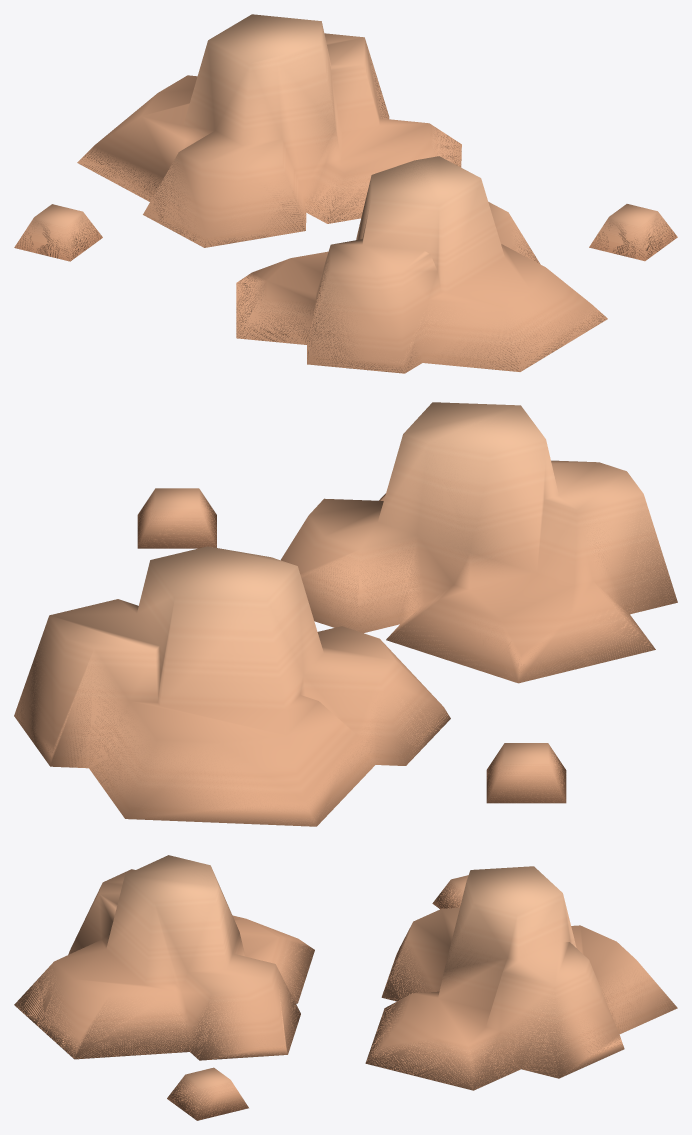
The model's file is desert_hills.glb.
3 renders of one model, top to bottom at view 1: azimuth 30°, elevation 25°; view 2: azimuth 150°, elevation 25°; view 3: azimuth 270°, elevation 25°, orthographic. The views are drawn at different scales.
Parts seen in each view (by area): view 1: stone-rocks; view 2: stone-rocks; view 3: stone-rocks.
Part boxes in pixels (x1,y1,x2,y2): stone-rocks: (14,14,677,373); stone-rocks: (14,402,677,826); stone-rocks: (14,855,677,1120).
Size of the model in its own units: 0.8173 by 0.2061 by 0.9967.
Materials: 1 (1 with a texture image).
